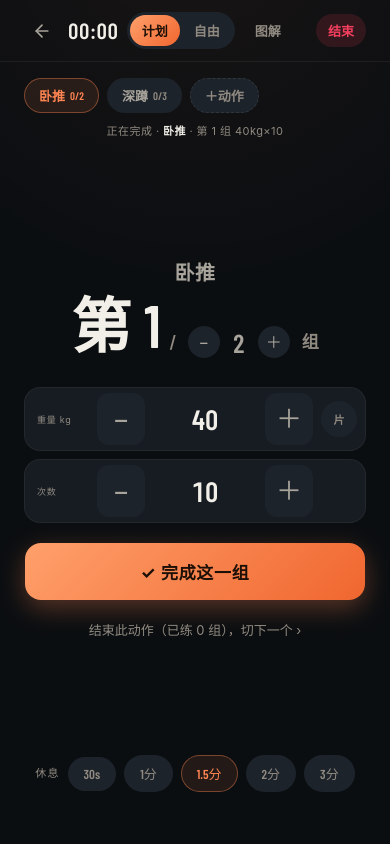
Test: WorkoutPage 动作训练 › 点数值弹出快捷选择框，单击即选
The image size is (390, 844).
Click the button named "选择重量" at x=205, y=419, box [169, 402, 241, 436]
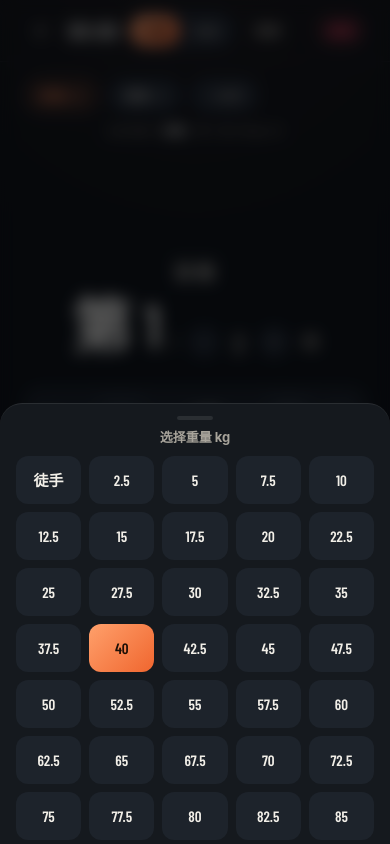
expect the element with class "workout__vp" is shown: met, box [0, 403, 389, 843]
Click the button "60" at x=341, y=704, box [309, 680, 374, 728]
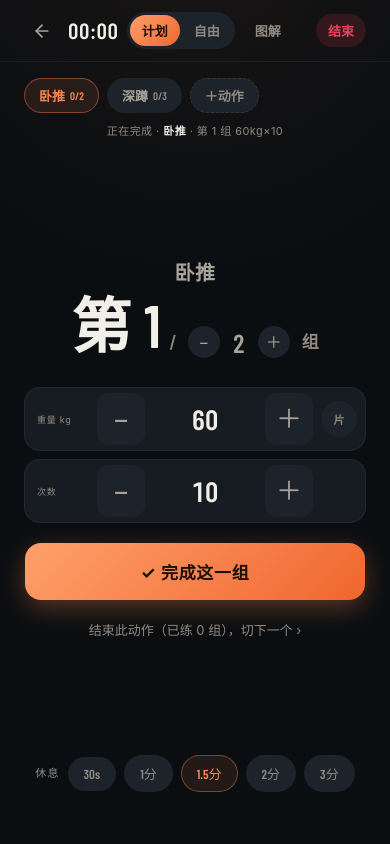
expect the button named "选择重量" reads "60": met, box [169, 402, 241, 436]
expect the element with class "workout__vp" is gone: met
Click the button named "选择次数" at x=205, y=491, box [169, 474, 241, 508]
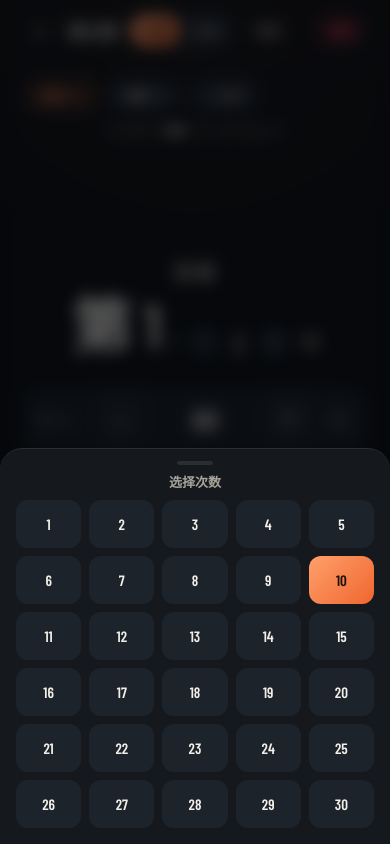
Click the button "15" at x=341, y=636, box [309, 612, 374, 660]
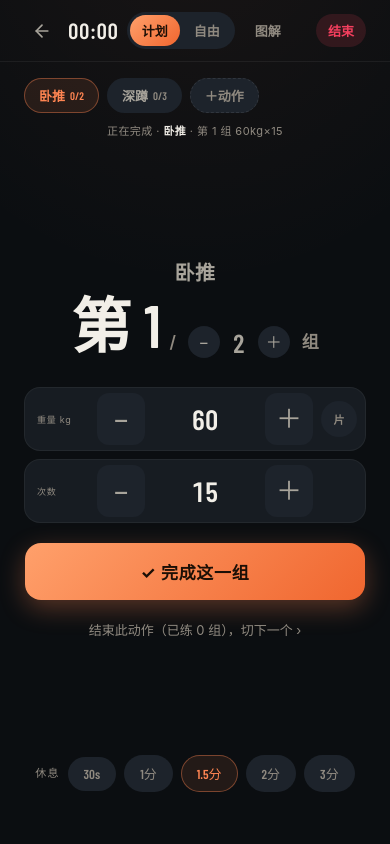
expect the button with class "workout__param-value" reads "15": met, box [169, 474, 241, 508]
